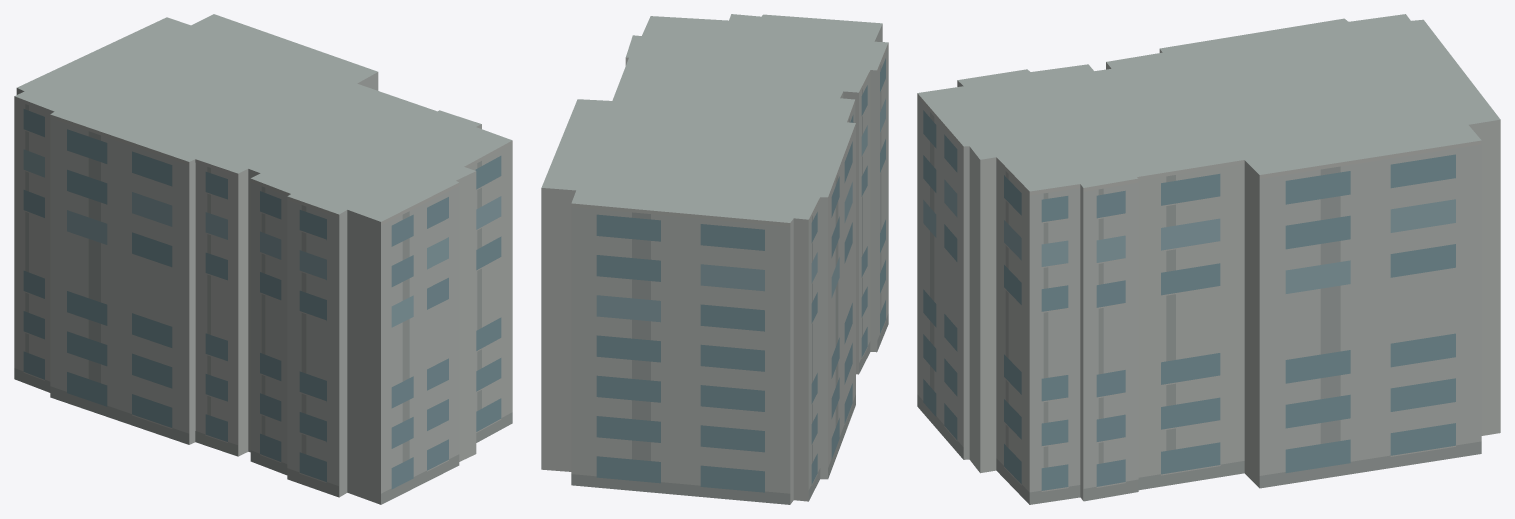
Rendered from survey-upis-32904807.glb.
3 views of the same model, side by side, from view 1: azimuth 30°, elevation 25°; view 2: azimuth 150°, elevation 25°; view 3: azimuth 270°, elevation 25° (orthographic). The views are drawn at different scales.
Parts seen in each view (by area): view 1: survey-upis-32904807.tmp; view 2: survey-upis-32904807.tmp; view 3: survey-upis-32904807.tmp.
Part boxes in pixels (x1,y1,x2,y2): survey-upis-32904807.tmp: (14, 14, 512, 504); survey-upis-32904807.tmp: (541, 14, 888, 504); survey-upis-32904807.tmp: (917, 14, 1500, 504).
Size of the model in its own units: 23.34 by 19.2 by 32.4.
